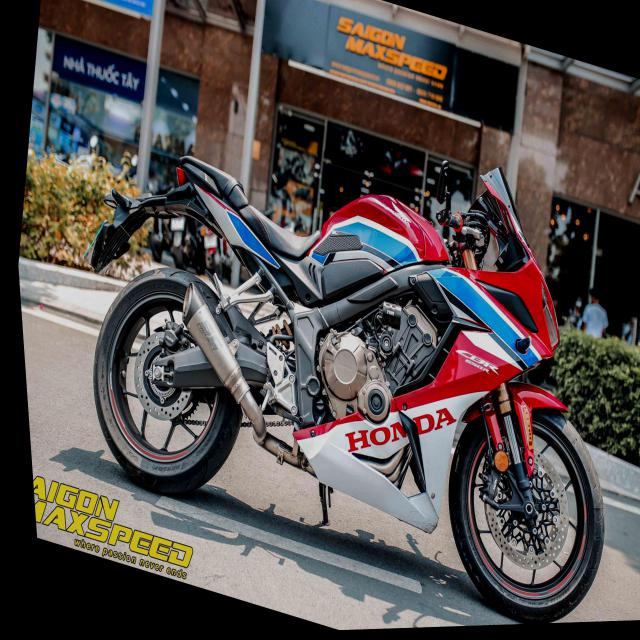CBR650R: (34, 29, 640, 639)
